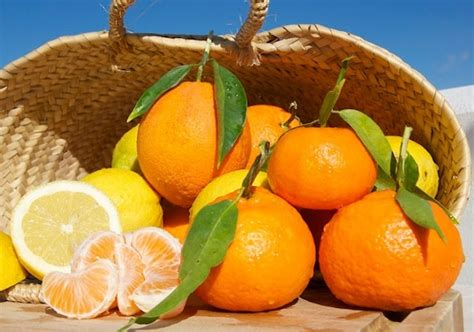orange: (318, 186, 466, 314), (185, 182, 321, 314), (135, 78, 254, 212), (266, 126, 383, 209)
